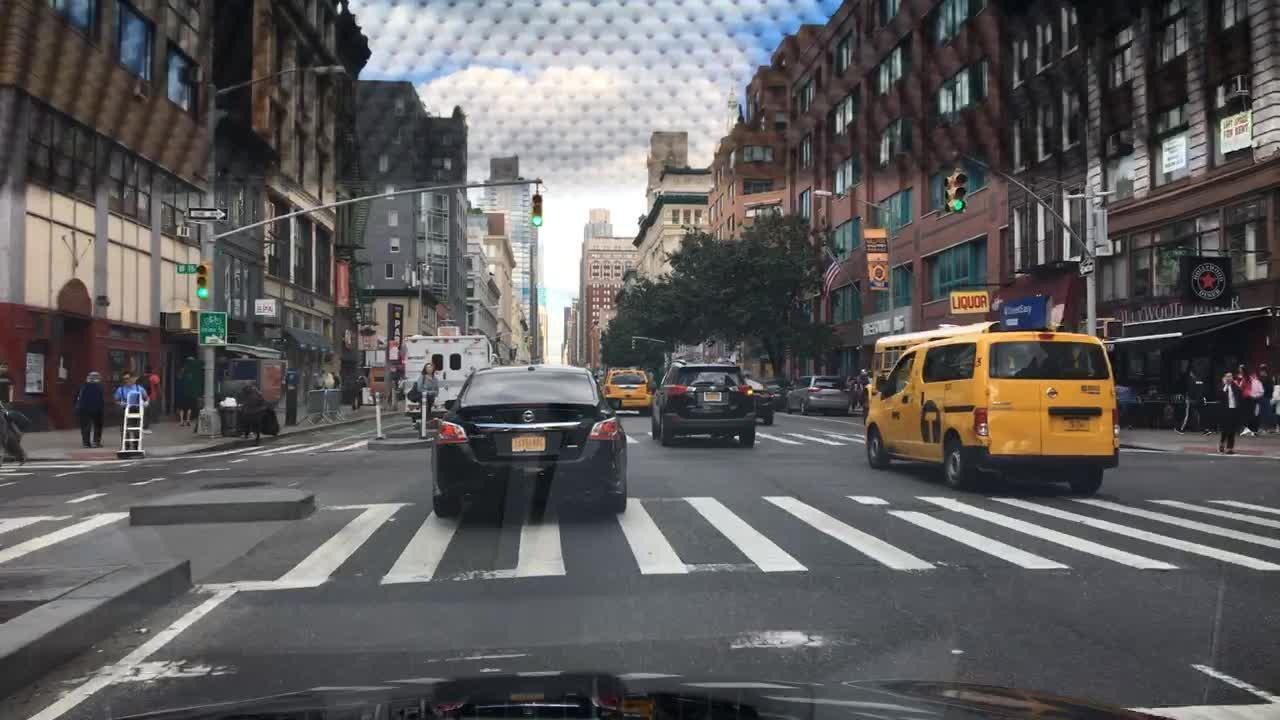Nissan: (1042, 386, 1061, 401)
